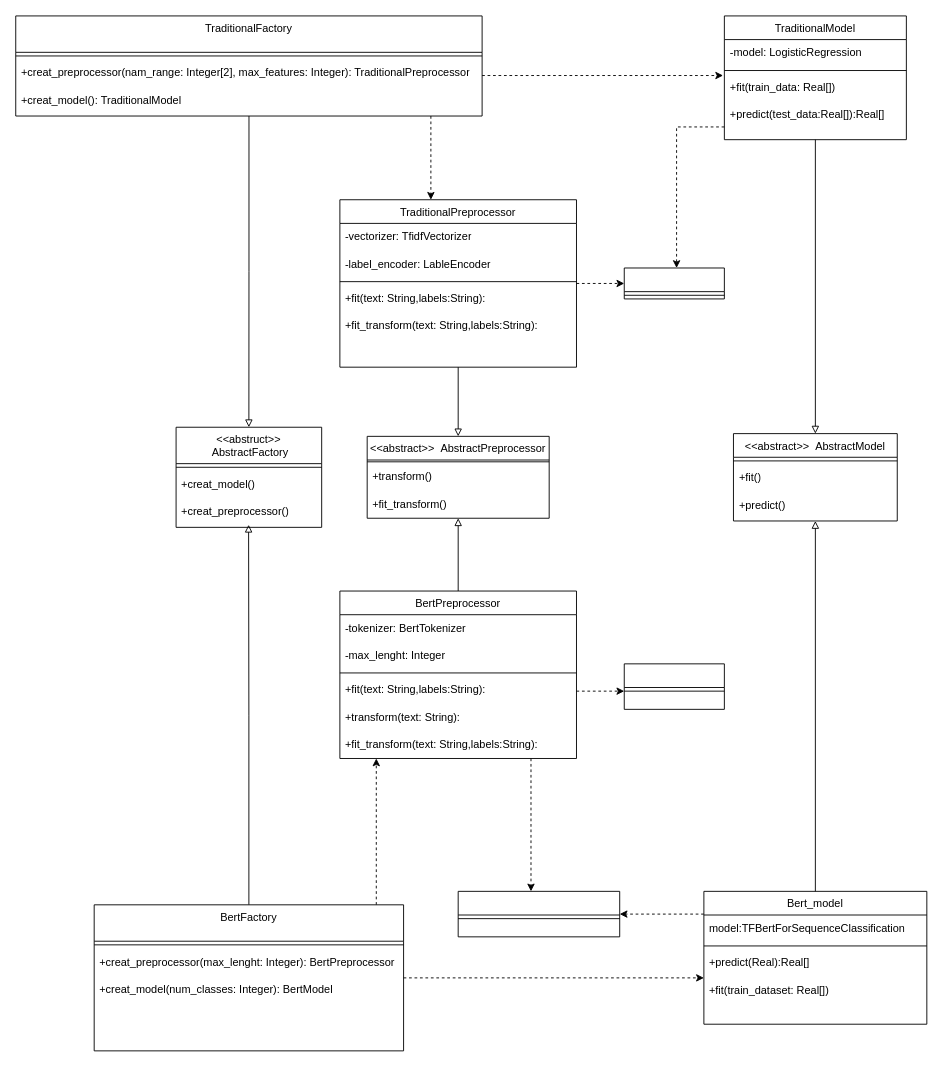
This 944x1067 diagram has some shape labels left out. The centre of each missing label's shape, as x and y in pixels:
"BertTokenizer" goes at (673,686).
"sklearn" goes at (673,283).
"tensorflow" goes at (538,913).
